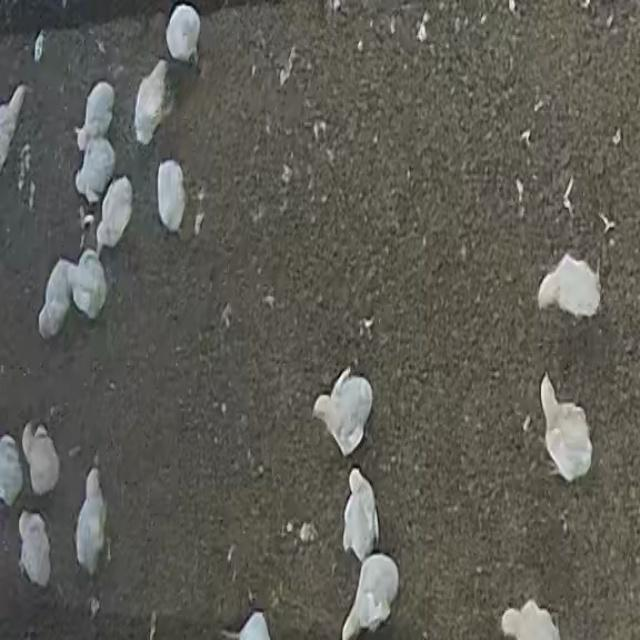chicken: (312, 364, 377, 456), (540, 375, 592, 483), (343, 552, 401, 640), (534, 250, 604, 318), (342, 468, 379, 560), (76, 470, 108, 576), (133, 60, 172, 146), (157, 154, 193, 238), (96, 174, 134, 251), (21, 422, 60, 497), (75, 83, 115, 155), (75, 134, 116, 204), (68, 248, 108, 318), (38, 260, 73, 340), (18, 510, 52, 589), (165, 1, 202, 64)
